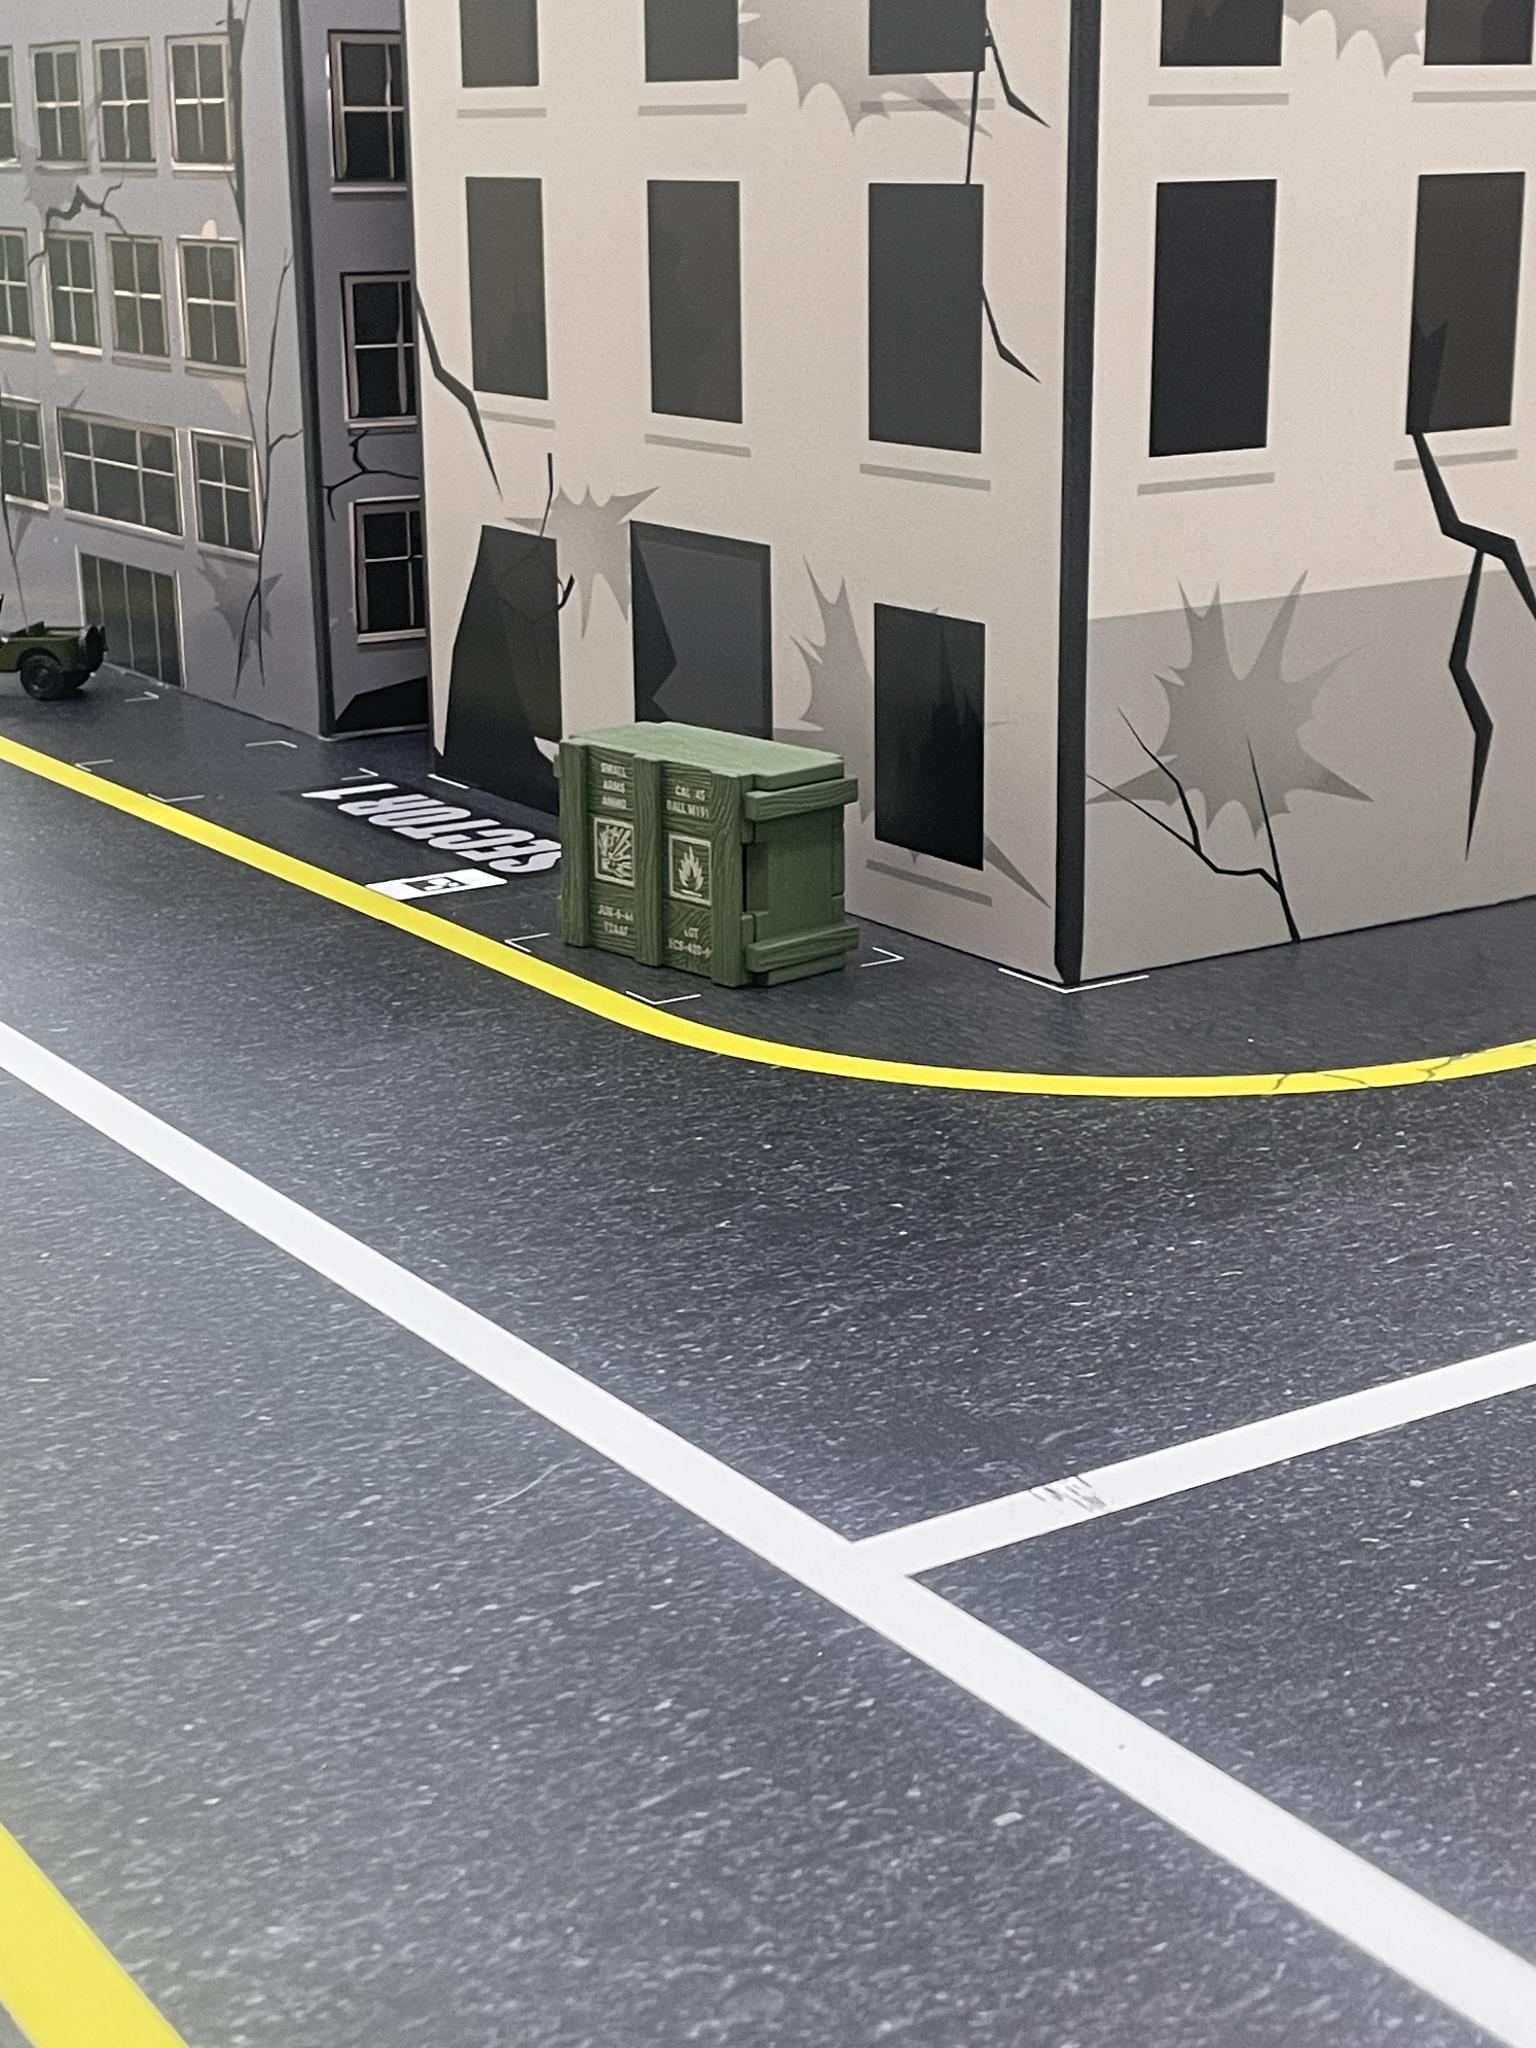Box: (553, 716, 866, 995)
Car: (0, 622, 124, 698)
